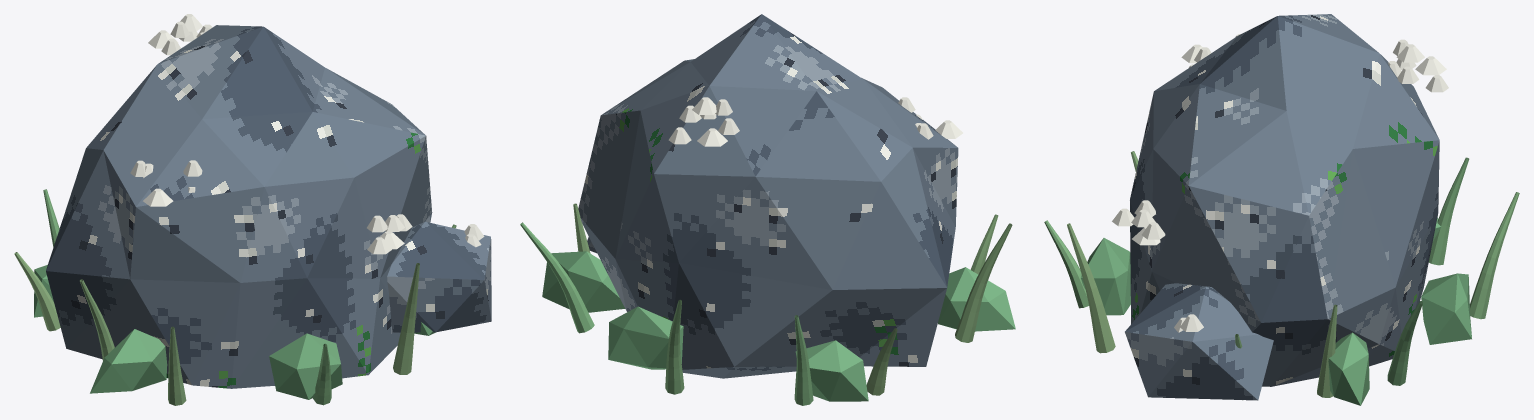
File: coast_boulder.glb
3 renders of one model, left to right at view 1: azimuth 30°, elevation 25°; view 2: azimuth 150°, elevation 25°; view 3: azimuth 270°, elevation 25°, orthographic. The views are drawn at different scales.
Parts seen in each view (by area): view 1: Boulder, WeedFoot, Strand, Barnacles; view 2: Boulder, WeedFoot, Strand, Barnacles; view 3: Boulder, WeedFoot, Strand, Barnacles.
Part boxes in pixels (x1,y1,x2,y2): Boulder: (46,25,491,388); WeedFoot: (34,264,435,399); Strand: (14,189,456,405); Barnacles: (130,14,484,254); Boulder: (578,14,958,378); WeedFoot: (542,251,1015,401); Strand: (520,203,1012,405); Barnacles: (668,97,962,146); Boulder: (1125,14,1439,400); WeedFoot: (1081,217,1471,405); Strand: (1044,151,1519,400); Barnacles: (1112,34,1448,332).
Bounding box in the file's own units: 3.43 × 2.57 × 3.41.
13 materials, 1 textured.
